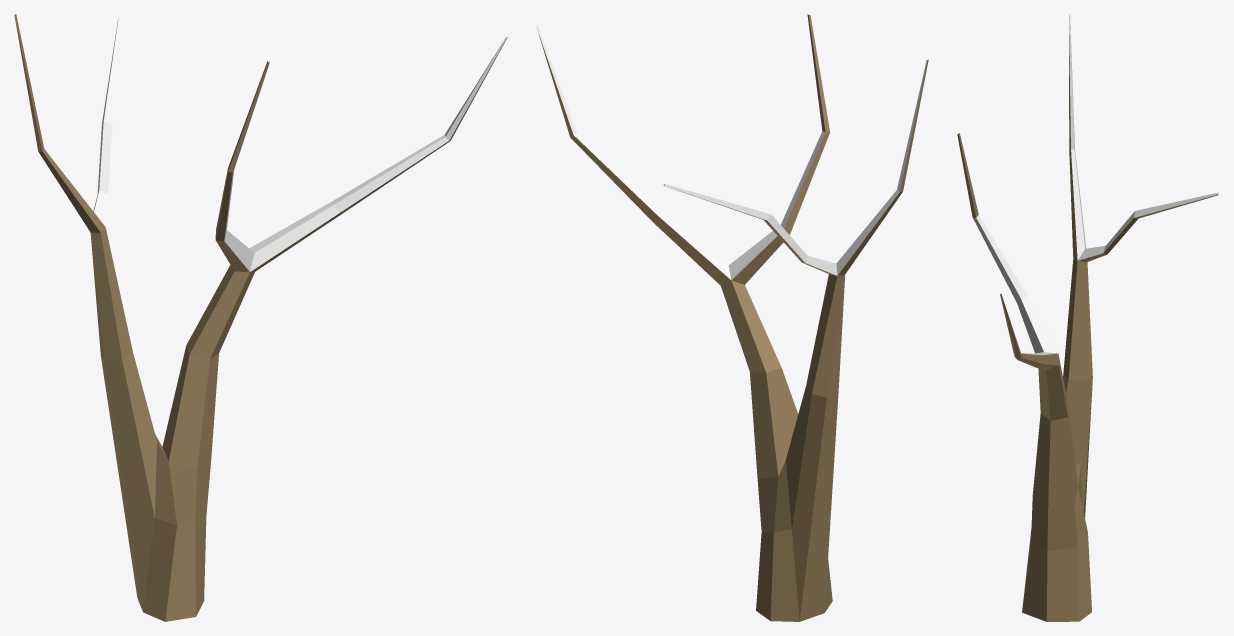
File: Apple_Tree_NoLeaves_m_Snow_BT_07.fbx
The picture shows the model from 3 angles, left to right: view 1: azimuth 30°, elevation 25°; view 2: azimuth 150°, elevation 25°; view 3: azimuth 270°, elevation 25°; orthographic projection. The views are drawn at different scales.
Visible parts, largest first — view 1: Apple_Tree_NoLeaves_m_Snow_BT_07; view 2: Apple_Tree_NoLeaves_m_Snow_BT_07; view 3: Apple_Tree_NoLeaves_m_Snow_BT_07.
Boxes of the visible parts, x1,y1,x2,y2 form: Apple_Tree_NoLeaves_m_Snow_BT_07: [14, 14, 507, 621]; Apple_Tree_NoLeaves_m_Snow_BT_07: [536, 14, 928, 621]; Apple_Tree_NoLeaves_m_Snow_BT_07: [957, 14, 1219, 621].
Size of the model in its own units: 384 by 501 by 223.
